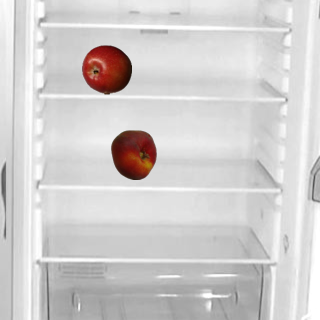Apple Braeburn: (81, 44, 131, 94)
Nectarine Flat: (108, 129, 158, 179)
